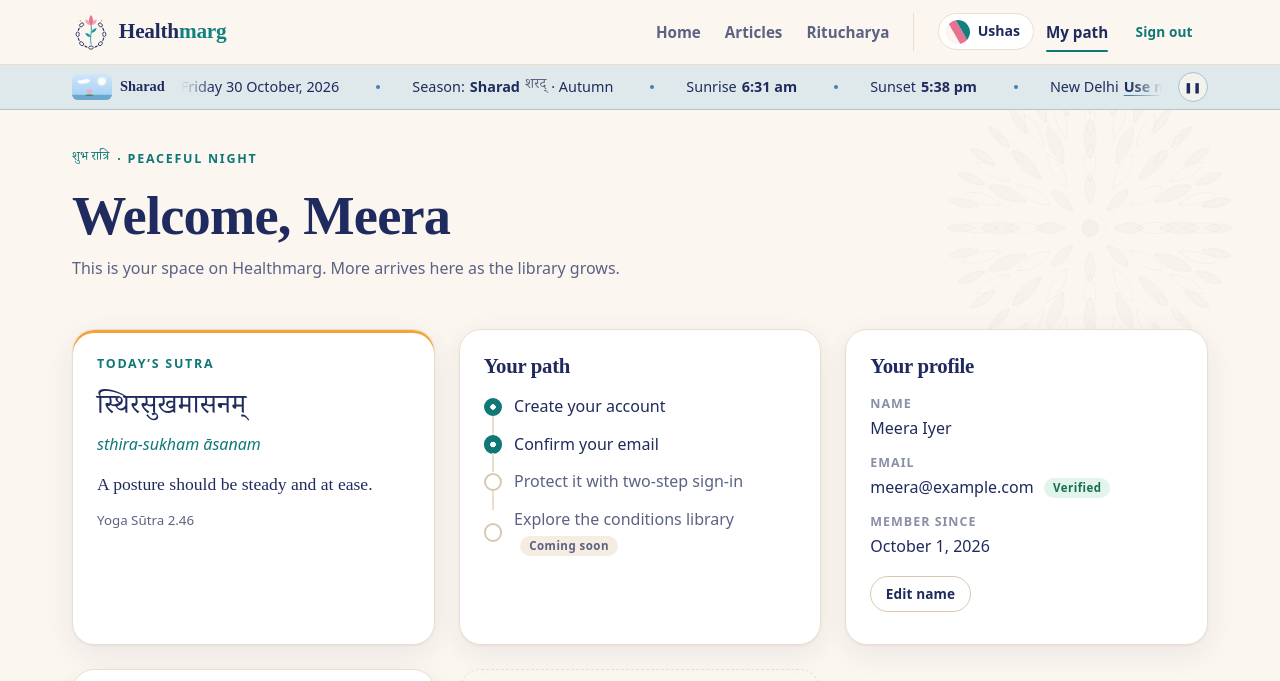
Test: member dashboard › edits the display name
Click the button "Edit name" at point(920, 594), box top-left (870, 576), bottom-right (971, 612)
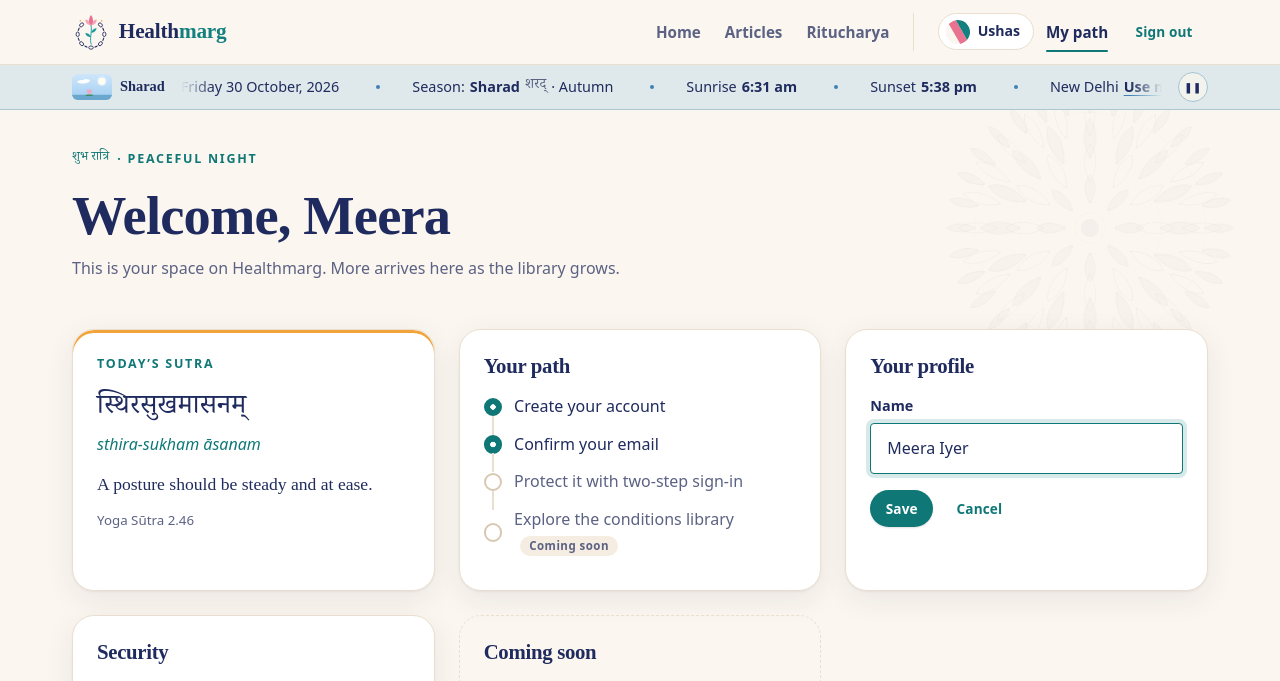
Replace the text in the field labelled "Name" with "Meera Krishnan" at point(1027, 448), box top-left (870, 423), bottom-right (1183, 474)
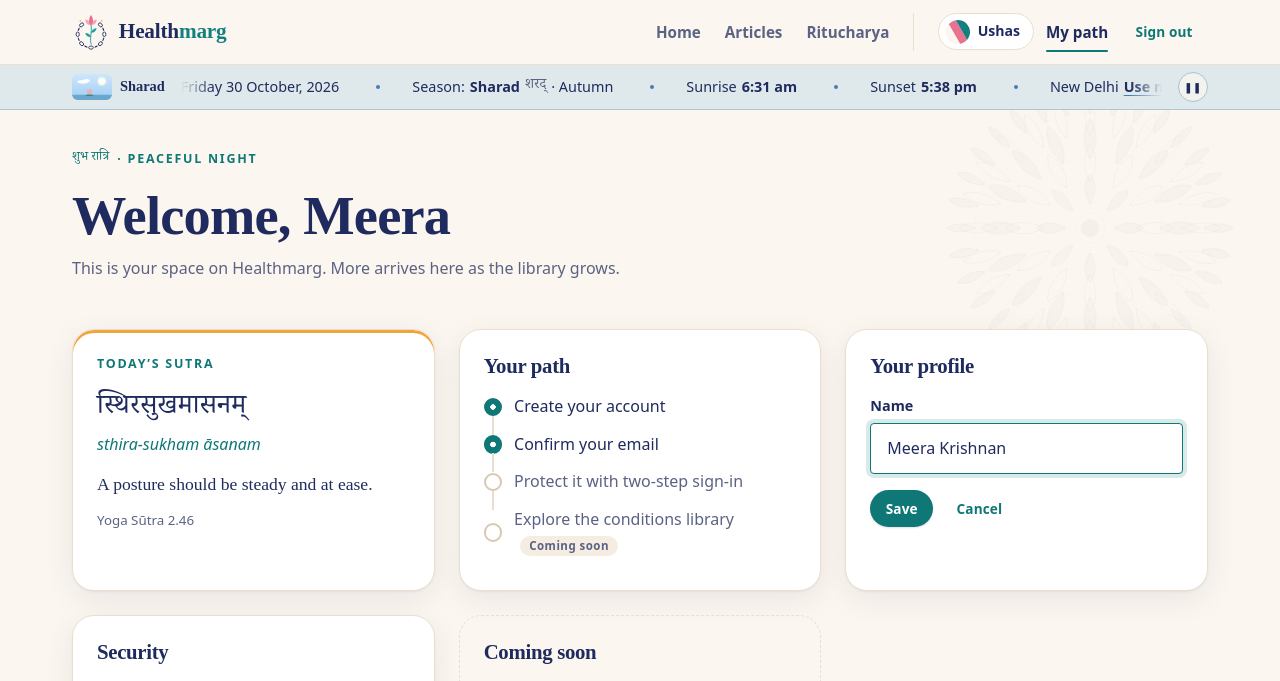
Click the button "Save" at point(902, 509), box top-left (870, 490), bottom-right (933, 527)
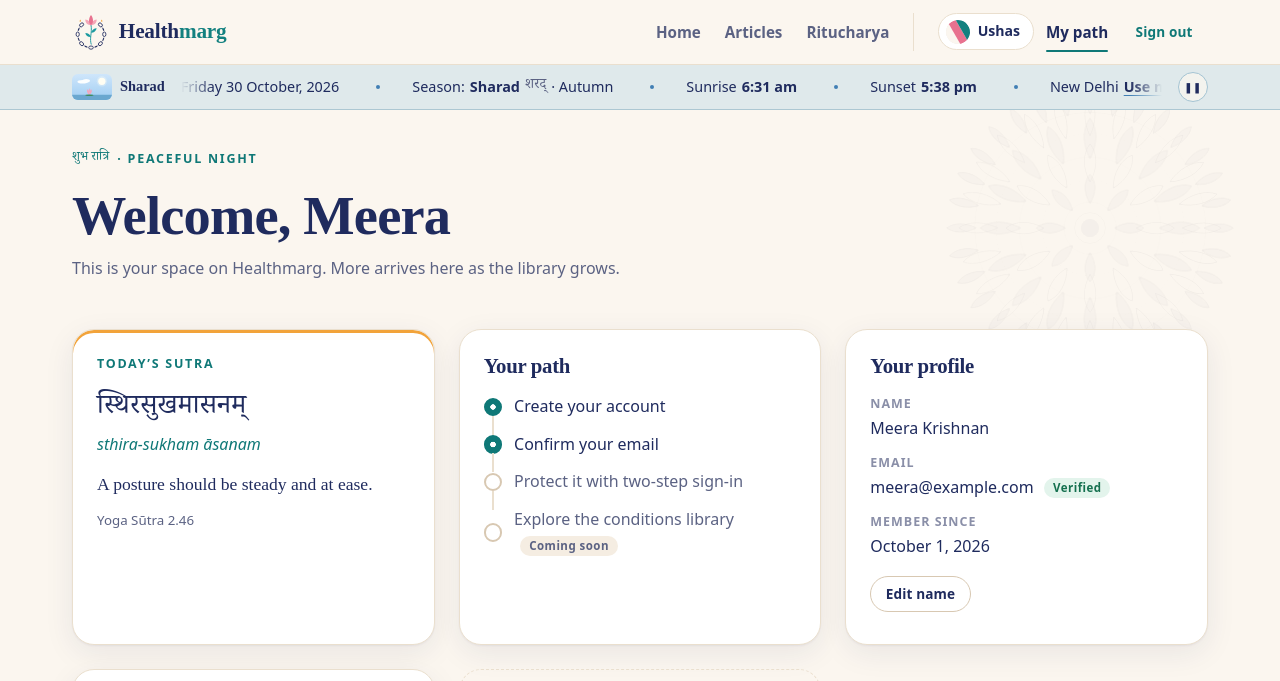
Result: the text "Meera Krishnan" is shown at top-left (870, 417), bottom-right (989, 439)
